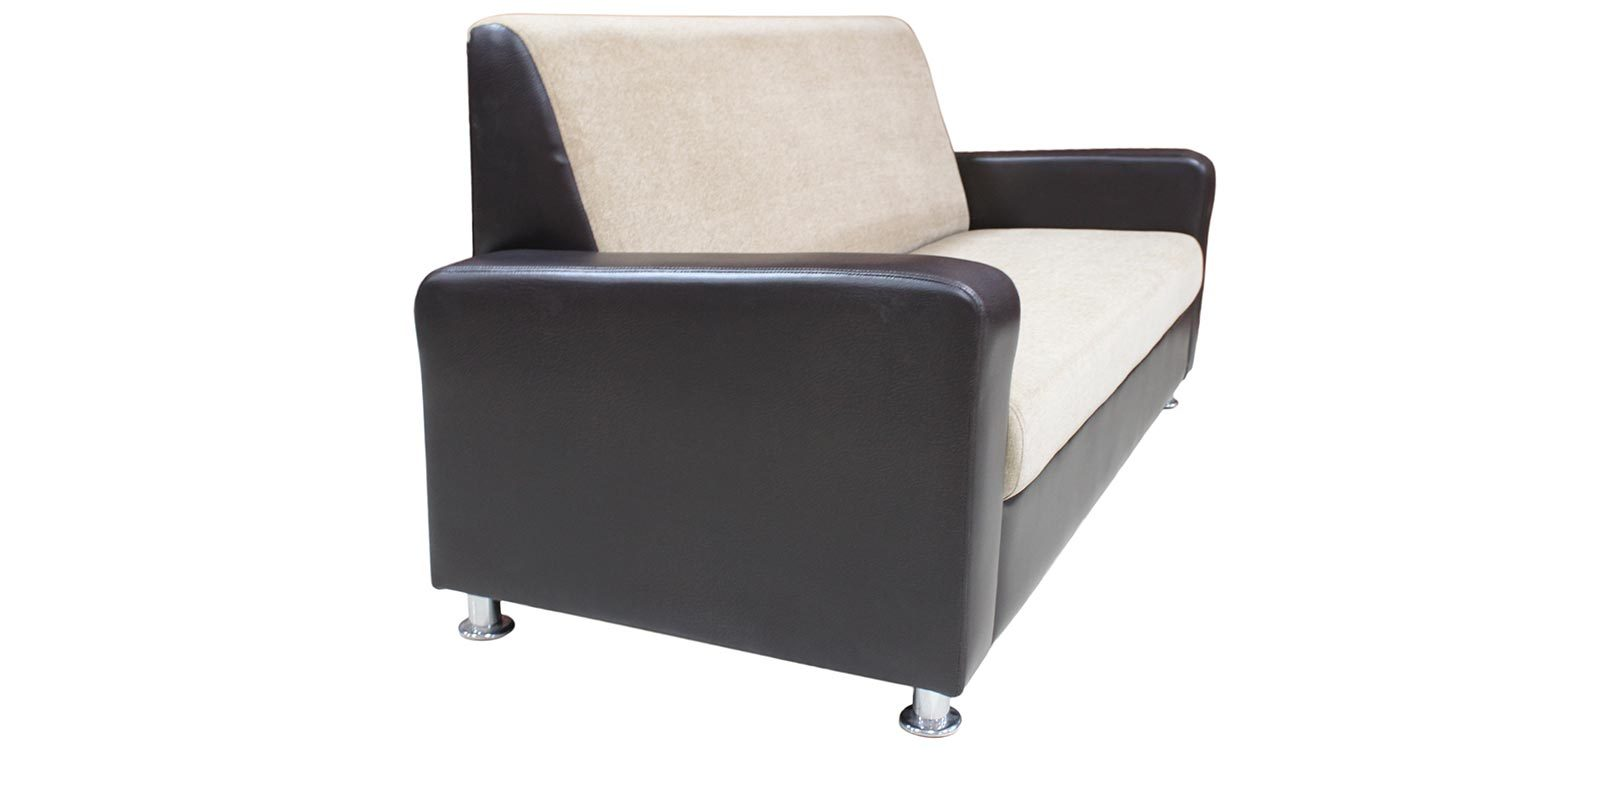New Ciara Three Seater Sofa in Dual Tone by Crystal Furnitech: (413, 13, 1220, 739)
